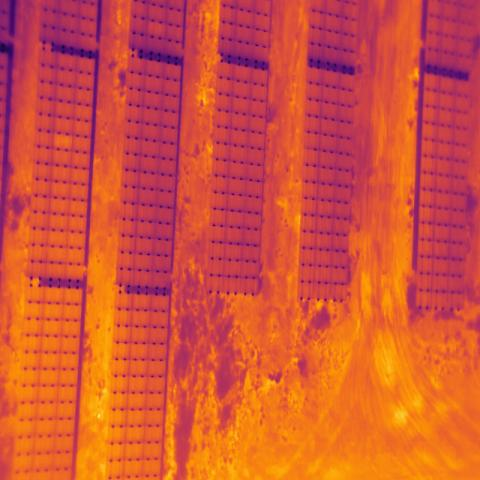fault: (52, 132, 74, 154)
